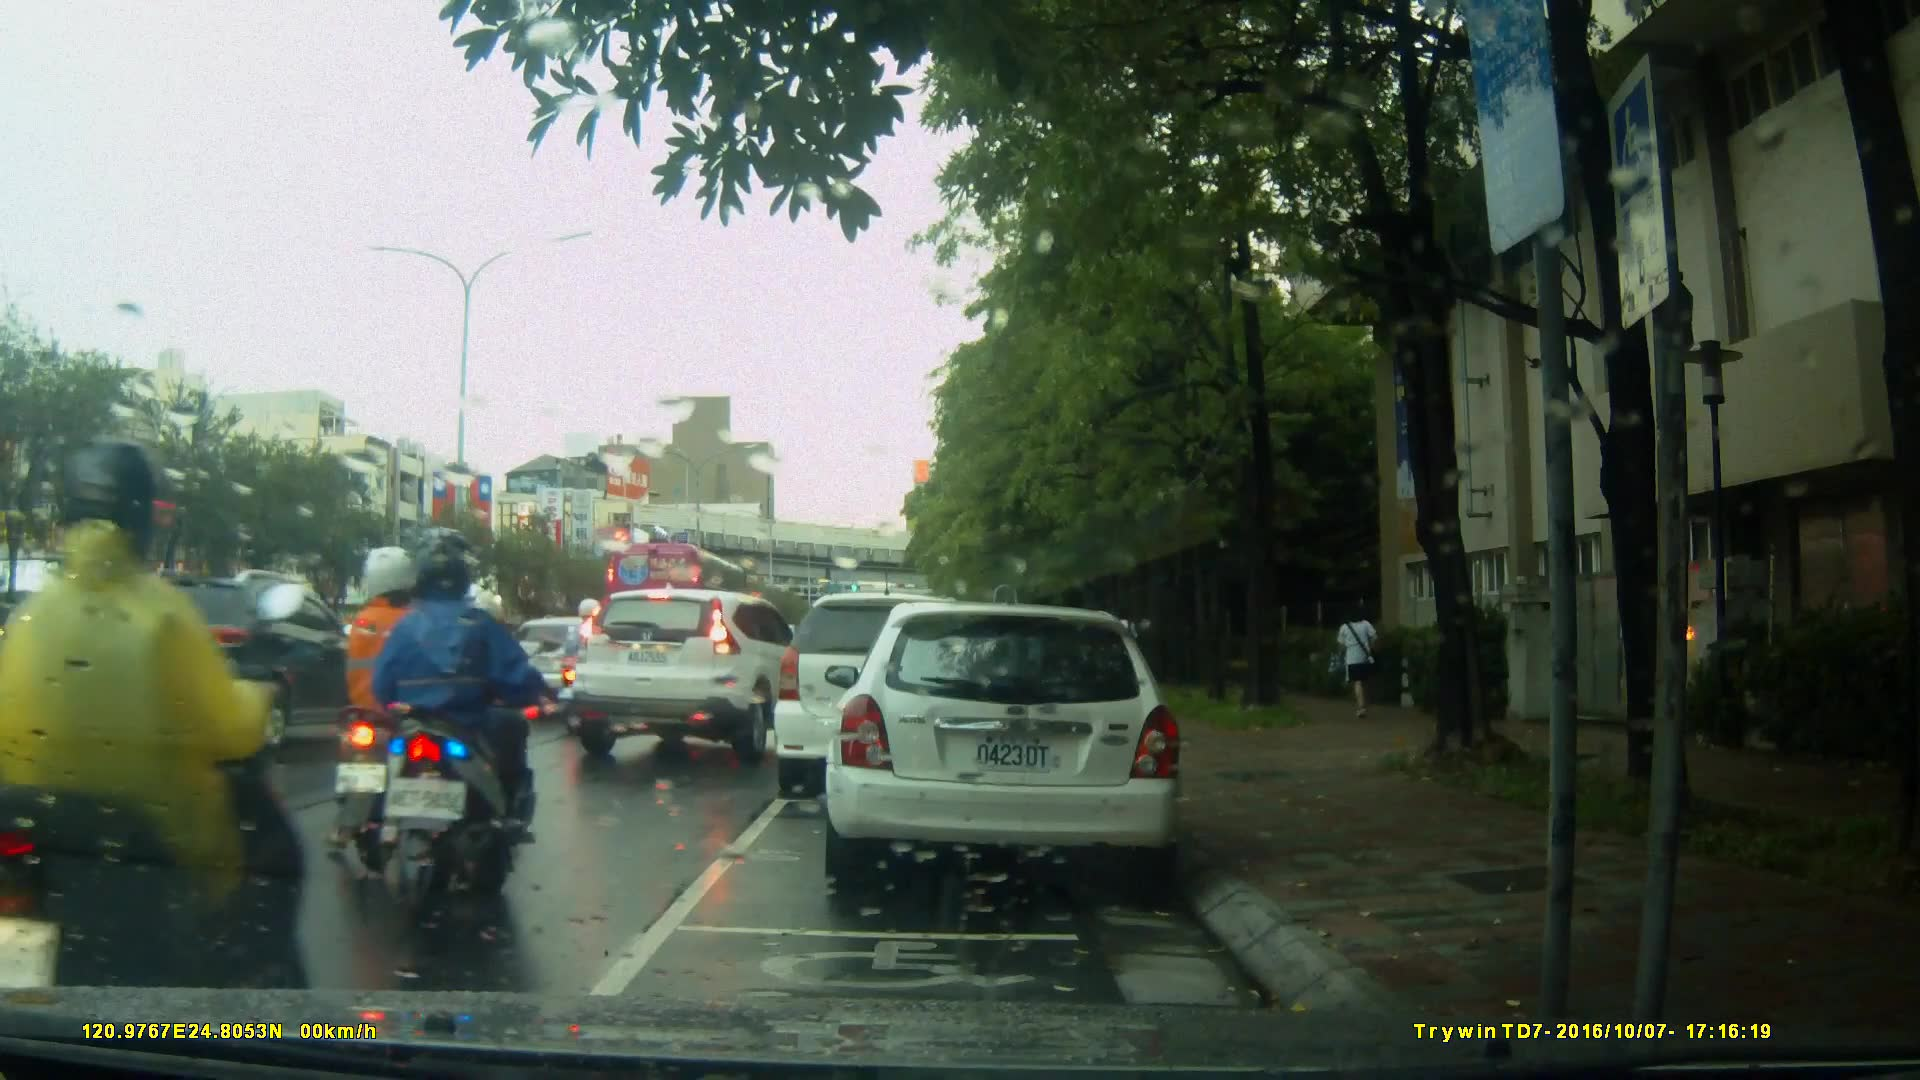pedestrian: (1324, 591, 1385, 733)
rider: (1, 456, 328, 1060), (373, 531, 544, 913), (332, 539, 464, 876), (556, 596, 624, 736)
vehicle: (835, 594, 1194, 898), (80, 564, 365, 760), (557, 585, 832, 771), (776, 590, 1026, 784), (603, 539, 749, 636)
